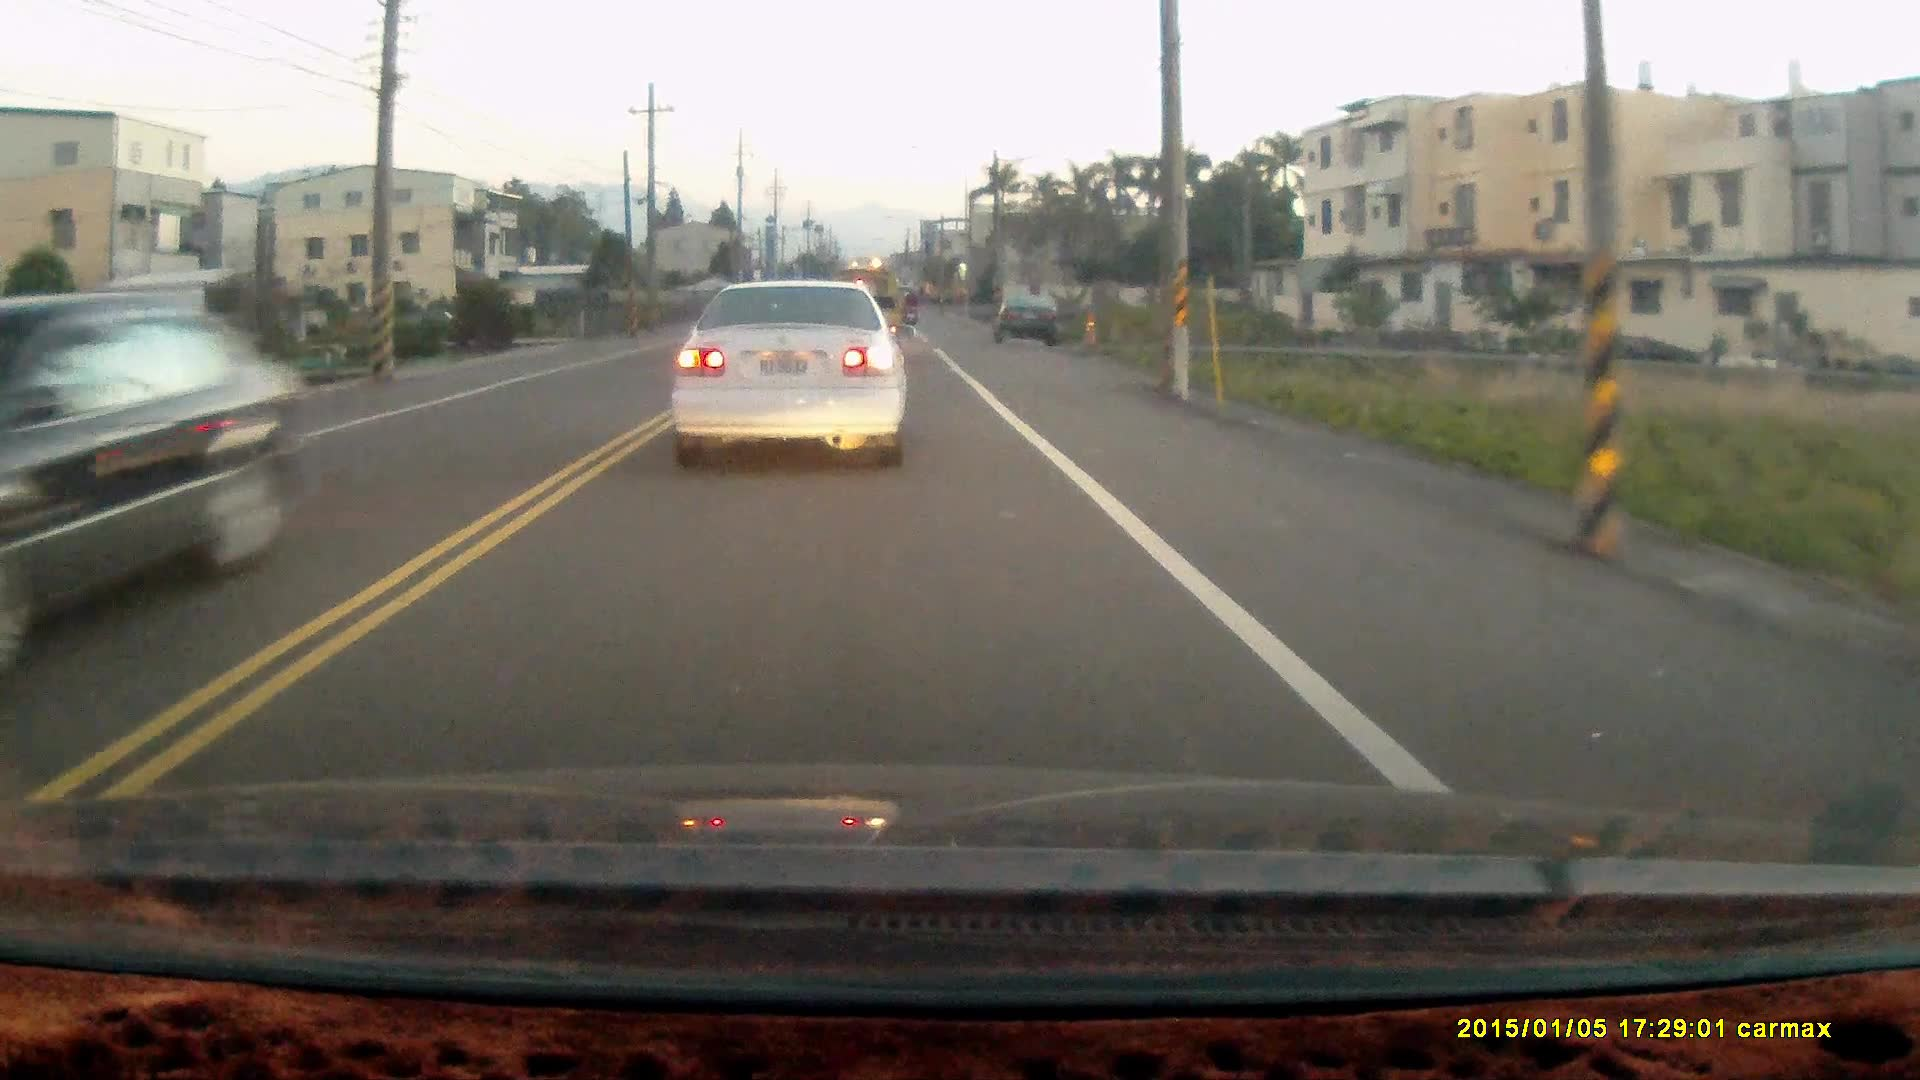vehicle: (7, 305, 305, 651), (670, 281, 911, 473), (1000, 294, 1068, 351)
